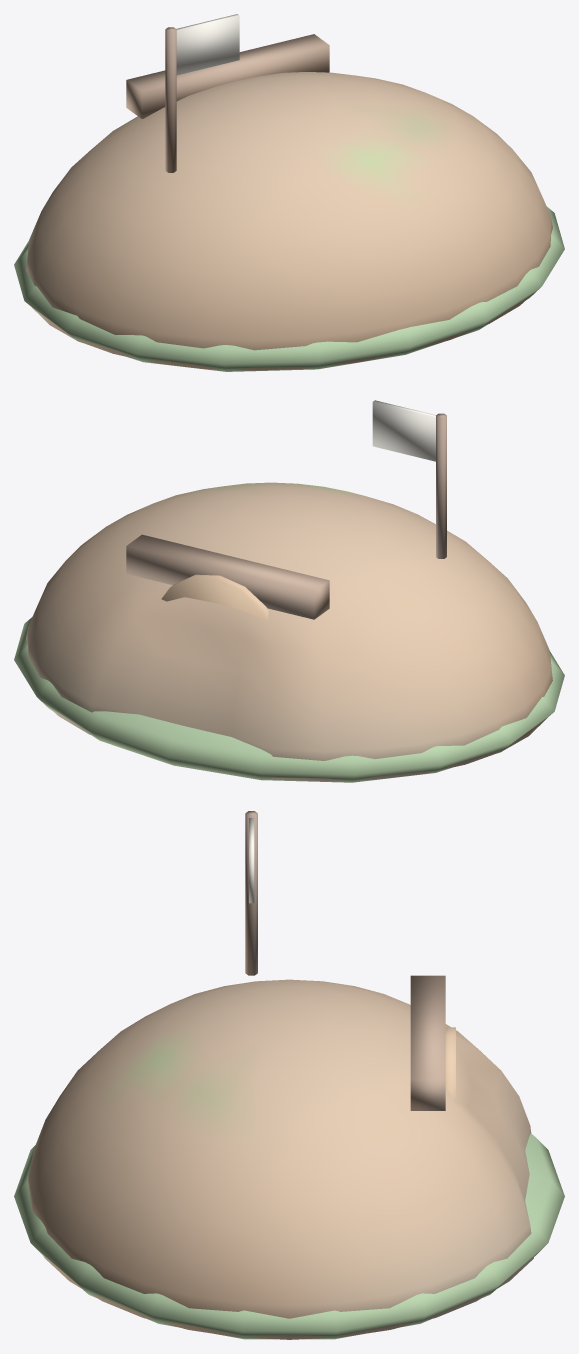
Rendered from burrow.glb.
The picture shows the model from 3 angles, top to bottom: view 1: azimuth 30°, elevation 25°; view 2: azimuth 150°, elevation 25°; view 3: azimuth 270°, elevation 25°; orthographic projection. The views are drawn at different scales.
Visible parts, largest first — view 1: Mound, MossSkirt, Lintel, Flag, Pole; view 2: Mound, MossSkirt, Lintel, Flag, Trim, Pole; view 3: Mound, MossSkirt, Lintel, Pole, Trim.
Part boxes in pixels (x1,y1,x2,y2): Mound: (26, 72, 552, 370); MossSkirt: (14, 206, 564, 371); Lintel: (126, 34, 329, 118); Flag: (176, 14, 239, 75); Pole: (165, 27, 176, 172); Mound: (26, 482, 552, 781); MossSkirt: (14, 617, 564, 782); Lintel: (126, 534, 329, 619); Flag: (372, 400, 435, 461); Trim: (161, 574, 269, 621); Pole: (436, 413, 446, 558); Mound: (28, 979, 533, 1339); MossSkirt: (14, 1133, 564, 1339); Lintel: (410, 975, 445, 1110); Pole: (245, 811, 257, 975); Trim: (445, 1027, 455, 1102).
Bounding box in the file's own units: 1.82 × 1.12 × 1.57.
